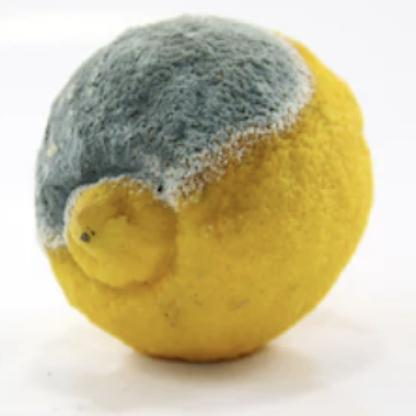rotten: (41, 14, 373, 361)
